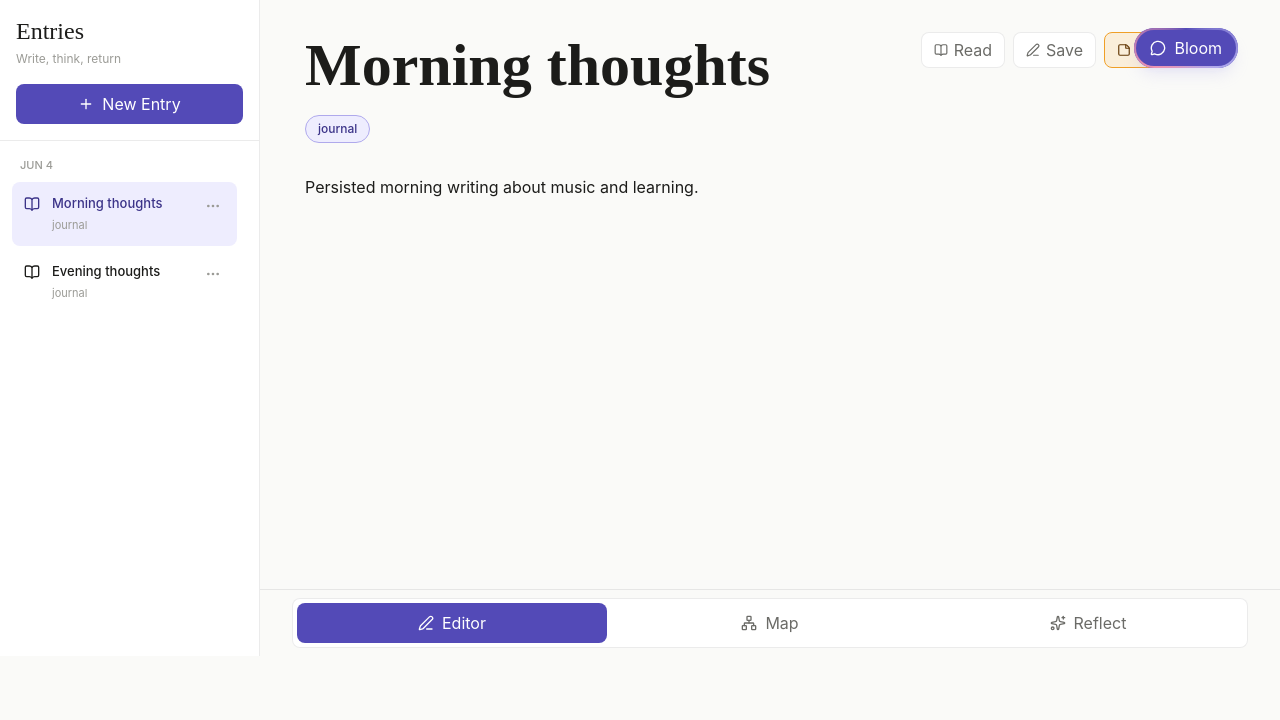
Scenario: JournalWorkspace › reloads persisted writing when switching back to an entry
Expected: the text box showing "Persisted morning writing about music and learning." is shown, [305,175,1225,589]
Click the text "Evening thoughts". click: {"x": 106, "y": 270}
box: [52,262,160,278]
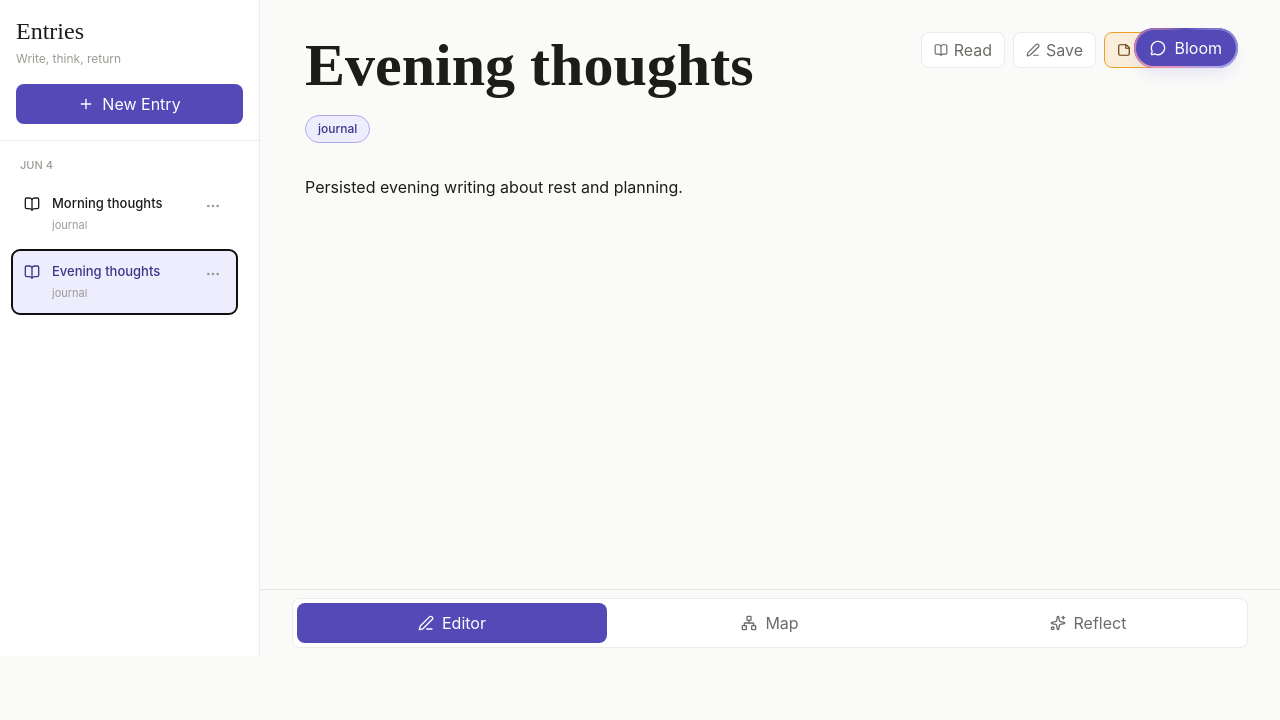
Result: the text box showing "Persisted evening writing about rest and planning." is shown at [305,175,1225,589]
Click the text "Morning thoughts". click: {"x": 107, "y": 202}
box: [52,194,162,210]
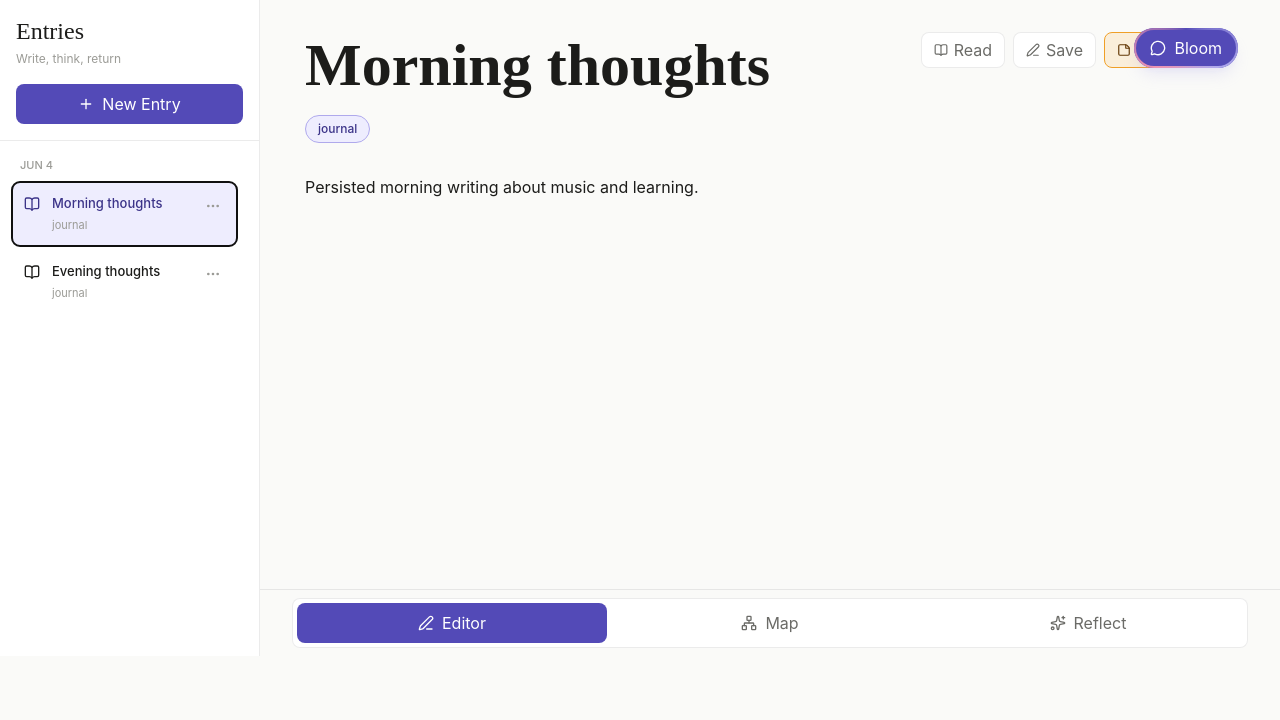
Result: the text box showing "Persisted morning writing about music and learning." is shown at [305,175,1225,589]
